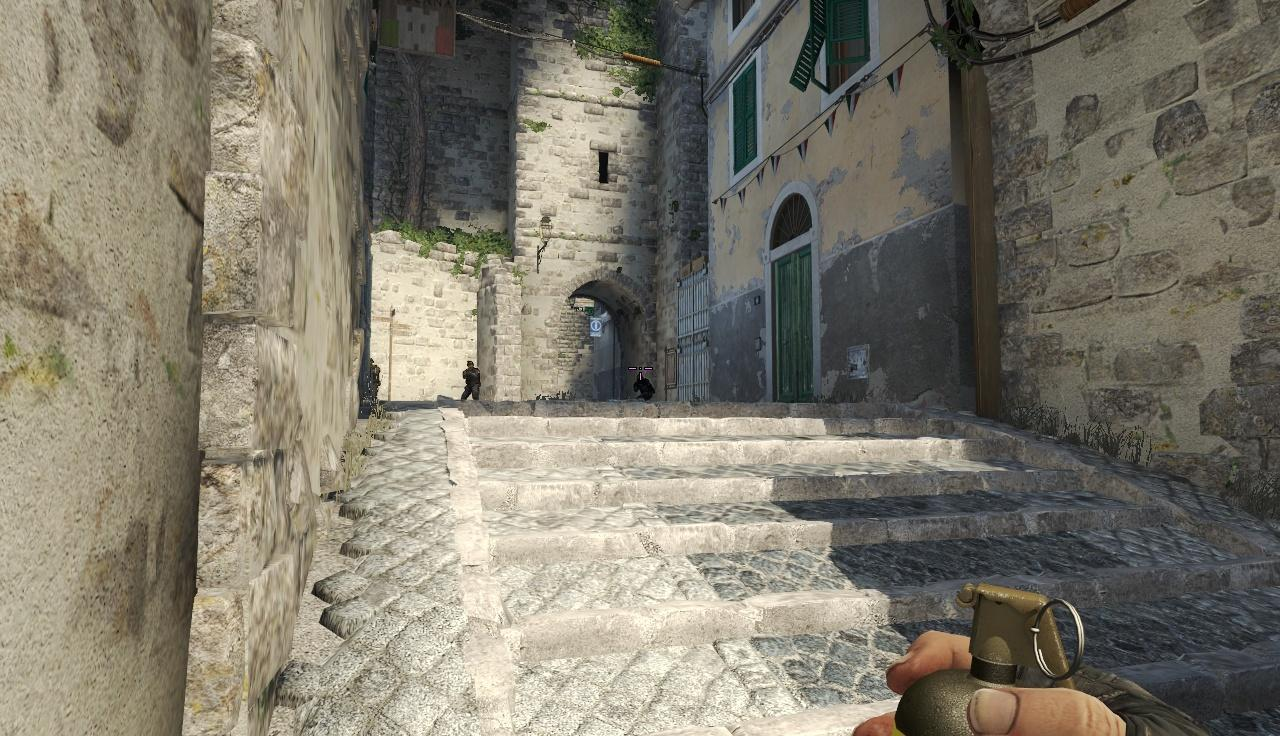ct: (462, 361, 480, 402), (634, 373, 655, 401), (370, 357, 381, 401)
